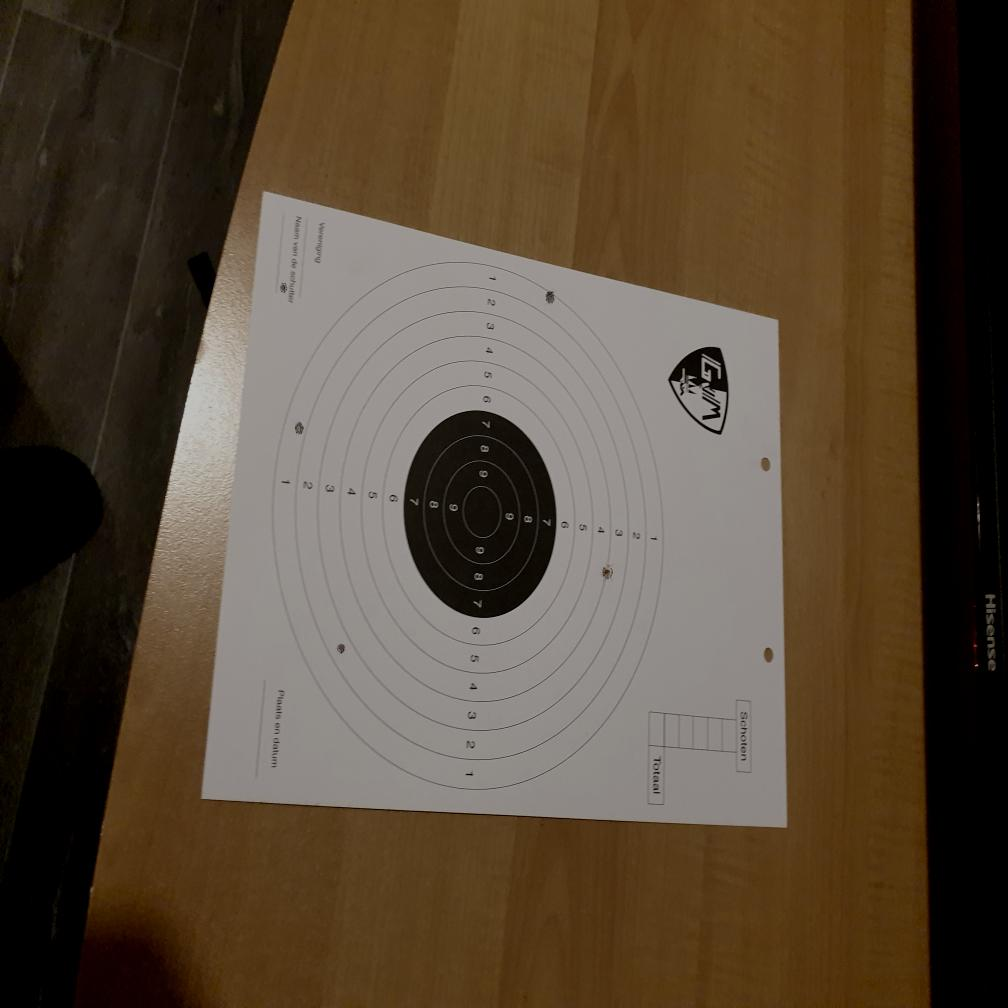0: (279, 282, 288, 294)
1: (546, 290, 556, 306), (294, 422, 305, 436)
3: (336, 643, 346, 656)
4: (601, 564, 614, 582)
Target: (273, 260, 666, 790)
black_contour: (402, 409, 557, 619)
